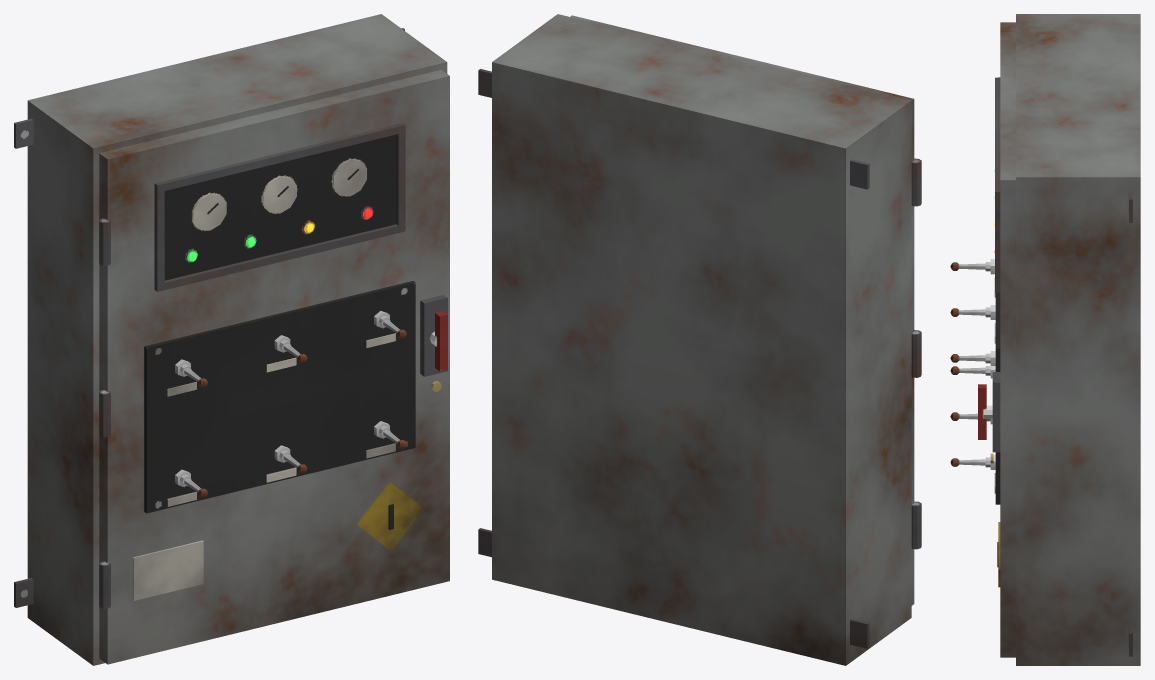
File: ElectricalPanel_low.fbx
3 views of the same model, side by side, from view 1: azimuth 30°, elevation 25°; view 2: azimuth 150°, elevation 25°; view 3: azimuth 270°, elevation 25° (orthographic). The views are drawn at different scales.
Parts seen in each view (by area): view 1: ElectricalPanel_low; view 2: ElectricalPanel_low; view 3: ElectricalPanel_low, ElectricalPanel_Switch_03_low, ElectricalPanel_Switch_02_low, ElectricalPanel_Switch_01_low, ElectricalPanel_Switch_06_low, ElectricalPanel_Switch_04_low.
Part boxes in pixels (left/top/right/bottom): ElectricalPanel_low: left=14, top=14, right=449, bottom=665; ElectricalPanel_low: left=478, top=14, right=921, bottom=665; ElectricalPanel_low: left=978, top=14, right=1140, bottom=665; ElectricalPanel_Switch_03_low: left=950, top=351, right=995, bottom=365; ElectricalPanel_Switch_02_low: left=950, top=305, right=995, bottom=319; ElectricalPanel_Switch_01_low: left=950, top=259, right=994, bottom=274; ElectricalPanel_Switch_06_low: left=950, top=455, right=995, bottom=469; ElectricalPanel_Switch_04_low: left=950, top=366, right=995, bottom=378.
Bounding box in the file's own units: 0.665 × 0.878 × 0.298.
Materials: 1 (1 with a texture image).
